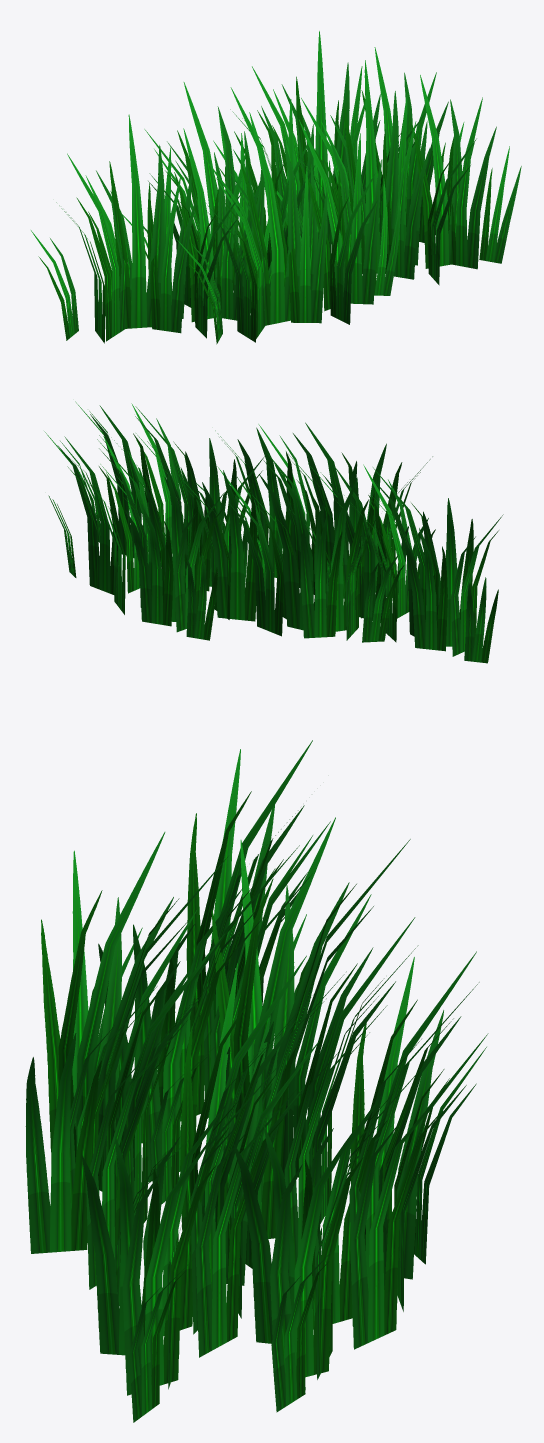
The model's file is Grass_06d.FBX.
3 renders of one model, top to bottom at view 1: azimuth 30°, elevation 25°; view 2: azimuth 150°, elevation 25°; view 3: azimuth 270°, elevation 25°, orthographic. The views are drawn at different scales.
Visible parts, largest first — view 1: Grass_06d; view 2: Grass_06d; view 3: Grass_06d.
Part boxes in pixels (x1,y1,x2,y2): Grass_06d: (31,31,521,344); Grass_06d: (44,401,503,663); Grass_06d: (25,740,488,1422).
Bounding box in the file's own units: 35.45 × 14.08 × 17.25.
1 material, 1 textured.
